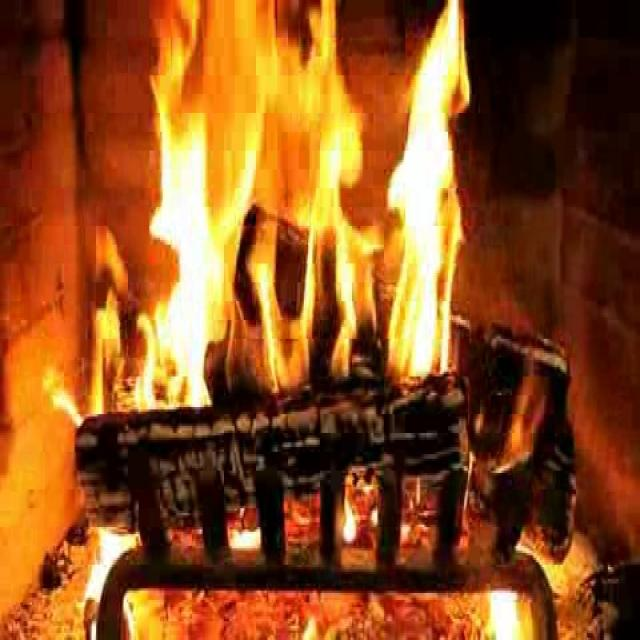fire: (111, 13, 479, 399)
